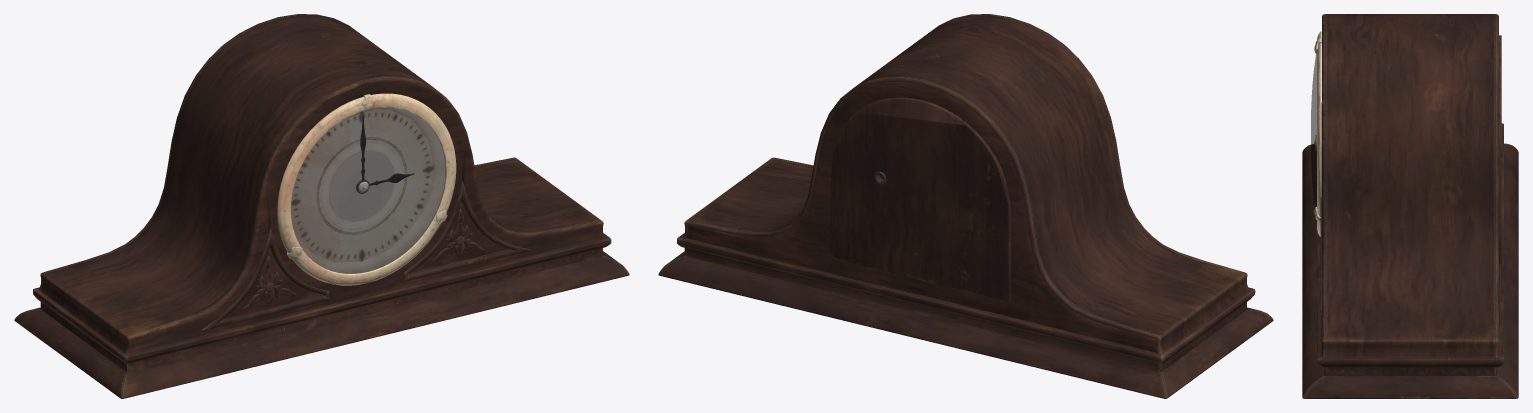
The model's file is mantel_clock_01.glb.
3 views of the same model, side by side, from view 1: azimuth 30°, elevation 25°; view 2: azimuth 150°, elevation 25°; view 3: azimuth 270°, elevation 25° (orthographic).
Visible parts, largest first — view 1: mantel_clock_01, mantel_clock_01_glass; view 2: mantel_clock_01; view 3: mantel_clock_01, mantel_clock_01_glass.
Boxes of the visible parts, x1,y1,x2,y2 form: mantel_clock_01: (14, 14, 629, 398); mantel_clock_01_glass: (291, 108, 445, 273); mantel_clock_01: (658, 14, 1273, 398); mantel_clock_01: (1302, 14, 1518, 398); mantel_clock_01_glass: (1311, 53, 1316, 207).
Size of the model in its own units: 0.3423 by 0.1605 by 0.1261.
2 materials, 2 textured.
